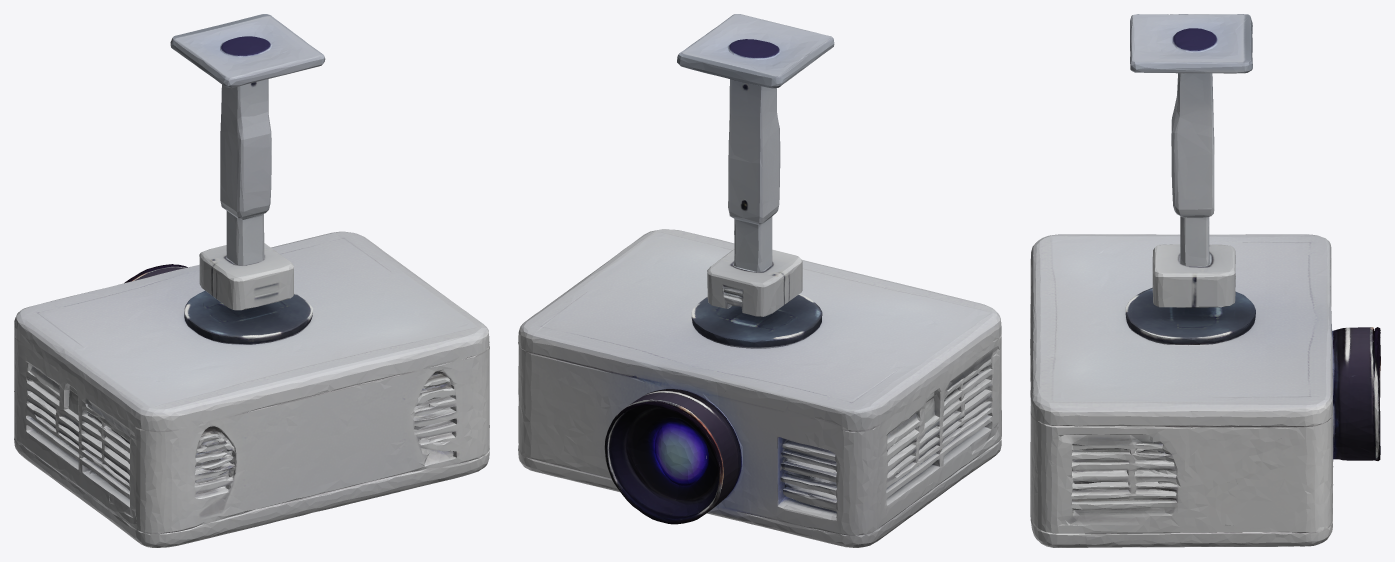
3 views of the same model, side by side, from view 1: azimuth 30°, elevation 25°; view 2: azimuth 150°, elevation 25°; view 3: azimuth 270°, elevation 25° (orthographic). The views are drawn at different scales.
Visible parts, largest first — view 1: world; view 2: world; view 3: world.
Boxes of the visible parts, left/top/right/bottom form: world: left=14, top=14, right=489, bottom=547; world: left=518, top=14, right=1001, bottom=547; world: left=1030, top=14, right=1380, bottom=547.
Size of the model in its own units: 0.87 by 0.9911 by 0.7247.
1 material, 1 textured.
